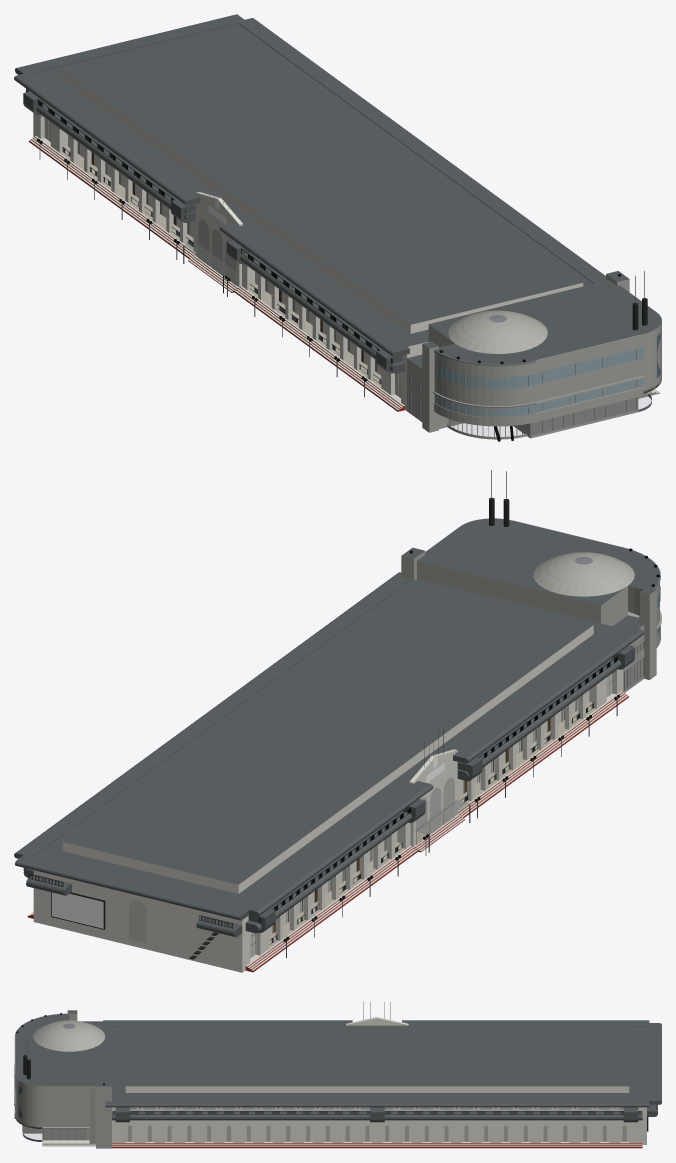
Rendered from SM_SportsHall_Simple.glb.
3 renders of one model, top to bottom at view 1: azimuth 30°, elevation 25°; view 2: azimuth 150°, elevation 25°; view 3: azimuth 270°, elevation 25°, orthographic. The views are drawn at different scales.
Visible parts, largest first — view 1: SM_SportsHall_Simple_LM, SM_SportsHall_Simple_VC, SM_SportsHall_Simple_NB; view 2: SM_SportsHall_Simple_LM, SM_SportsHall_Simple_VC, SM_SportsHall_Simple_NB; view 3: SM_SportsHall_Simple_LM, SM_SportsHall_Simple_NB, SM_SportsHall_Simple_VC.
Boxes of the visible parts, bbox=[...] form: SM_SportsHall_Simple_LM: bbox=[14, 14, 661, 441]; SM_SportsHall_Simple_VC: bbox=[26, 92, 661, 437]; SM_SportsHall_Simple_NB: bbox=[46, 120, 651, 436]; SM_SportsHall_Simple_LM: bbox=[14, 497, 661, 972]; SM_SportsHall_Simple_VC: bbox=[28, 470, 661, 967]; SM_SportsHall_Simple_NB: bbox=[129, 642, 643, 957]; SM_SportsHall_Simple_LM: bbox=[14, 1010, 661, 1148]; SM_SportsHall_Simple_NB: bbox=[23, 1089, 626, 1142]; SM_SportsHall_Simple_VC: bbox=[14, 1002, 656, 1141].
Bounding box in the file's own units: 44.85 × 24.09 × 144.
